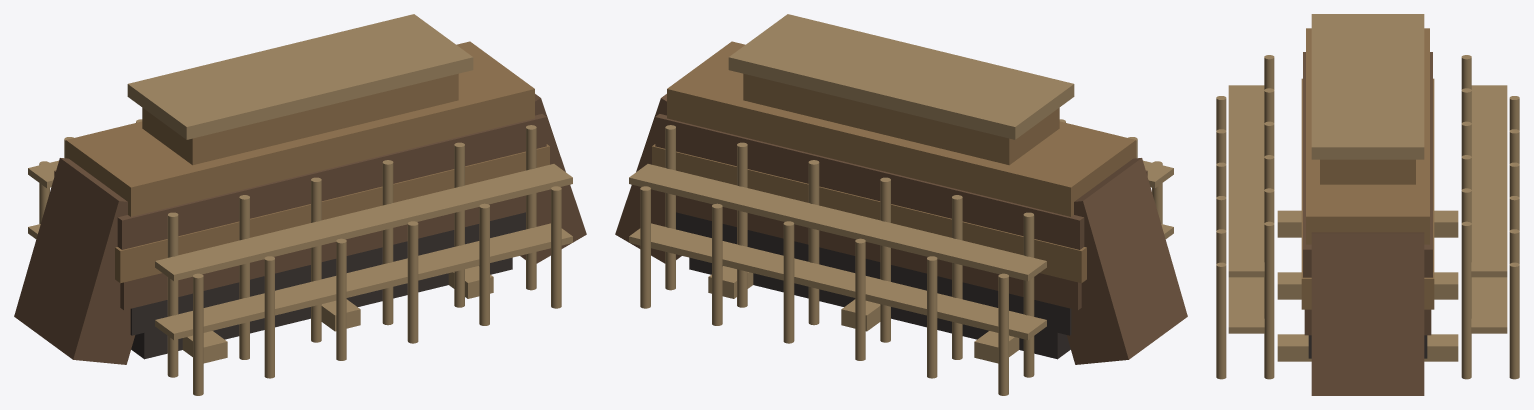
Rendered from ark.glb.
3 views of the same model, side by side, from view 1: azimuth 30°, elevation 25°; view 2: azimuth 150°, elevation 25°; view 3: azimuth 270°, elevation 25° (orthographic). The views are drawn at different scales.
Visible parts, largest first — view 1: Cube.005, Cube.009, Cube.007, Cube.004, Cube.011, Cube.010, Cube.008, Cube.003, Cube.002, Cube.001, Cube, Cube.006 (+16 smaller); view 2: Cube.005, Cube.009, Cube.007, Cube.004, Cube.013, Cube.012, Cube.008, Cube.003, Cube.002, Cube.001, Cube, Cube.006 (+16 smaller); view 3: Cube.006, Cube.009, Cube.005, Cube.011, Cube.013, Cube.008, Cube.010, Cube.012, Cube.016, Cube.004, Cylinder.010, Cylinder.022 (+26 smaller).
Part boxes in pixels (left/top/right/bottom): Cube.005: left=66, top=41, right=534, bottom=216; Cube.009: left=127, top=14, right=473, bottom=139; Cube.007: left=14, top=158, right=135, bottom=364; Cube.004: left=54, top=114, right=546, bottom=249; Cube.011: left=155, top=164, right=572, bottom=281; Cube.010: left=155, top=223, right=572, bottom=339; Cube.008: left=142, top=73, right=458, bottom=165; Cube.003: left=115, top=144, right=549, bottom=283; Cube.002: left=120, top=191, right=543, bottom=310; Cube.001: left=130, top=212, right=525, bottom=335; Cube: left=131, top=257, right=512, bottom=359; Cube.006: left=520, top=94, right=586, bottom=263; Cube.005: left=667, top=41, right=1135, bottom=216; Cube.009: left=728, top=14, right=1074, bottom=139; Cube.007: left=1066, top=158, right=1187, bottom=364; Cube.004: left=655, top=114, right=1147, bottom=249; Cube.013: left=629, top=164, right=1046, bottom=281; Cube.012: left=629, top=223, right=1046, bottom=339; Cube.008: left=743, top=73, right=1059, bottom=165; Cube.003: left=652, top=144, right=1086, bottom=283; Cube.002: left=658, top=191, right=1081, bottom=310; Cube.001: left=676, top=212, right=1071, bottom=335; Cube: left=689, top=257, right=1070, bottom=359; Cube.006: left=615, top=94, right=681, bottom=263; Cube.006: left=1311, top=232, right=1424, bottom=395; Cube.009: left=1311, top=14, right=1424, bottom=159; Cube.005: left=1306, top=28, right=1429, bottom=244; Cube.011: left=1228, top=85, right=1264, bottom=277; Cube.013: left=1471, top=85, right=1507, bottom=277; Cube.008: left=1320, top=159, right=1415, bottom=184; Cube.010: left=1228, top=277, right=1264, bottom=333; Cube.012: left=1471, top=277, right=1507, bottom=333; Cube.016: left=1277, top=334, right=1458, bottom=361; Cube.004: left=1303, top=52, right=1432, bottom=277; Cylinder.010: left=1264, top=221, right=1274, bottom=379; Cylinder.022: left=1461, top=221, right=1471, bottom=379.
Bounding box in the file's own units: 10.04 × 4.17 × 5.38.
